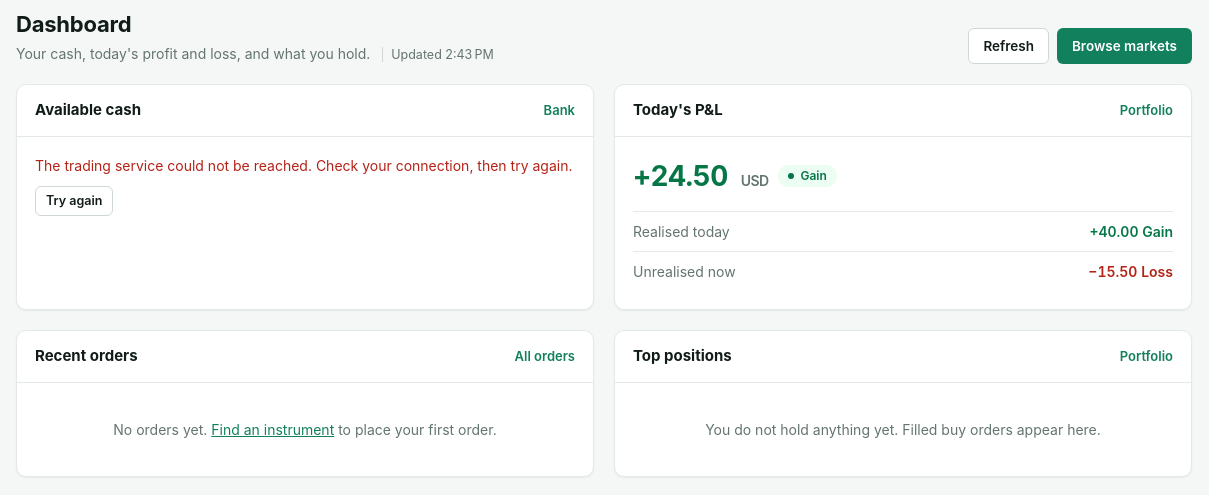
Test: DashboardComponent › a failed panel shows a readable message while the others still render › says when the service could not be reached, and retries only that panel
The image size is (1209, 495).
Click the button with class "retry": (74, 201) [35,186,113,216]
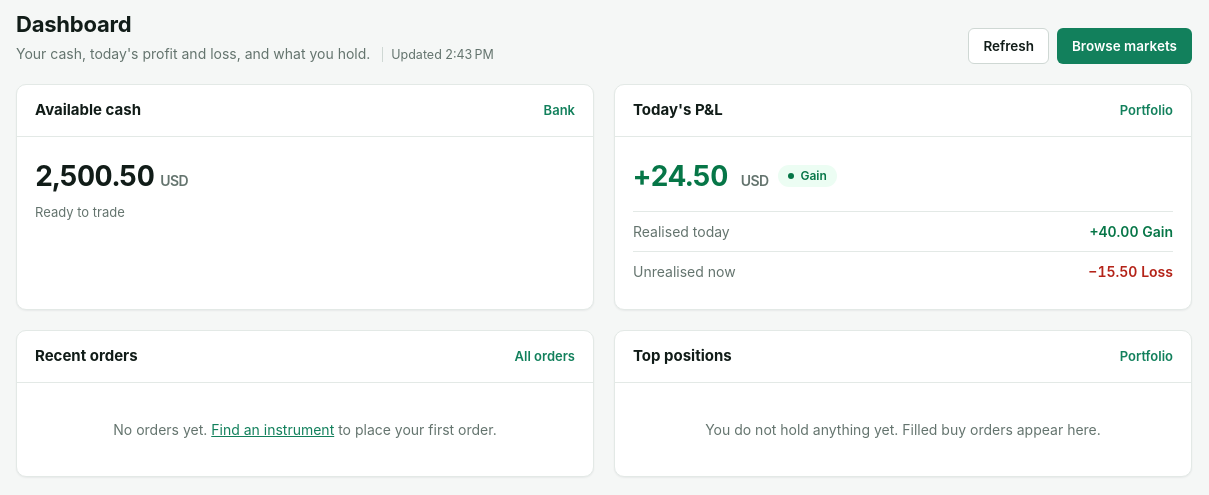
Check: the element showing "2,500.50USD" is shown, box [35,159,188,193]
